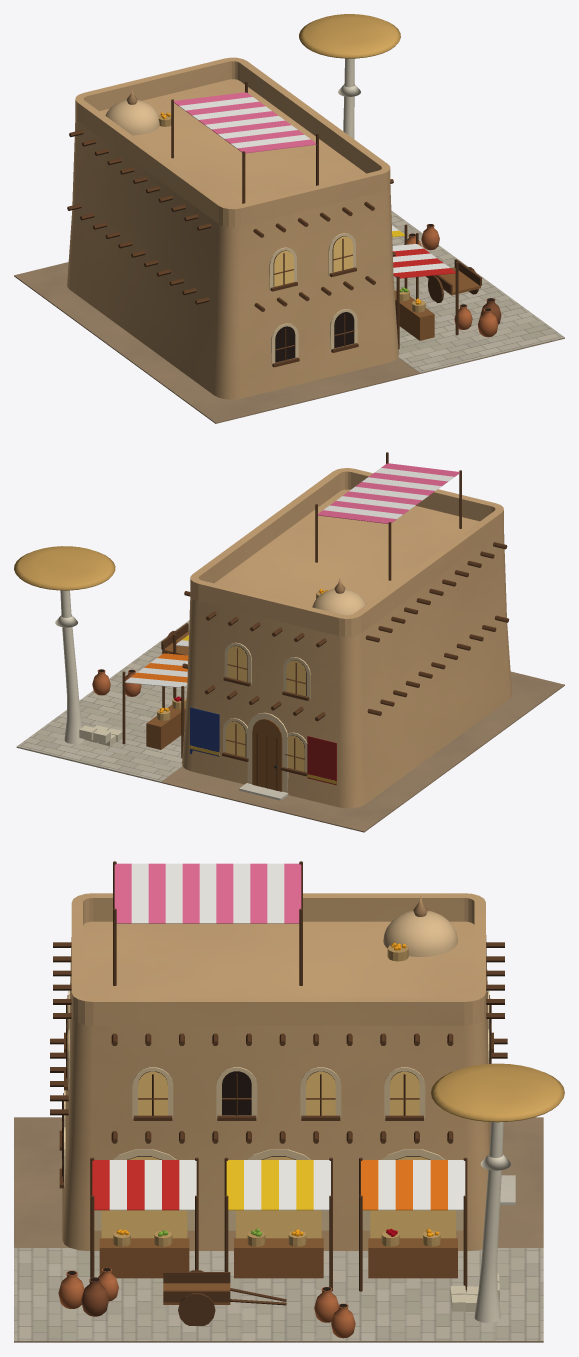
File: hl_trznice.glb
3 views of the same model, one above another, from view 1: azimuth 30°, elevation 25°; view 2: azimuth 150°, elevation 25°; view 3: azimuth 270°, elevation 25° (orthographic). The views are drawn at different scales.
Parts seen in each view (by area): view 1: dum, noc; view 2: dum, noc; view 3: dum, noc.
Part boxes in pixels (bbox=[...]): dum: bbox=[14, 14, 564, 423]; noc: bbox=[274, 236, 352, 286]; dum: bbox=[14, 452, 564, 832]; noc: bbox=[226, 646, 305, 771]; dum: bbox=[14, 861, 564, 1342]; noc: bbox=[67, 995, 455, 1238].
Size of the model in its own units: 14.71 by 8.83 by 14.73.
1 material, 1 textured.
